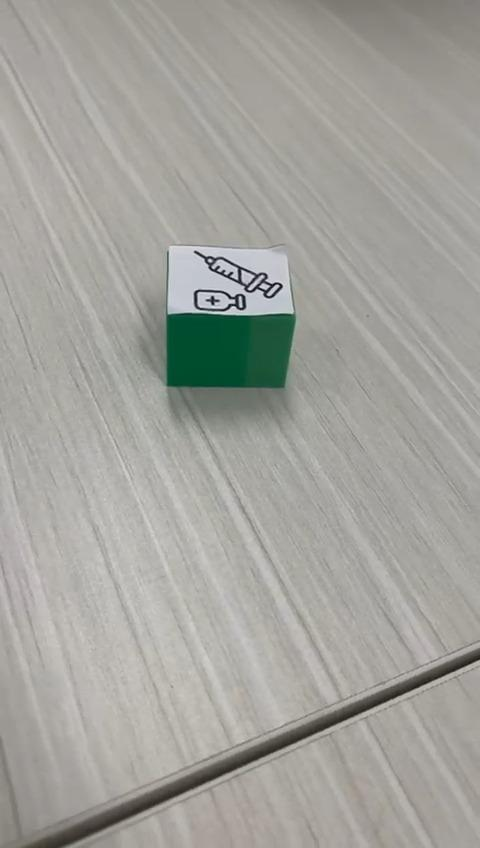antiseptic cream: (164, 242, 297, 389)
